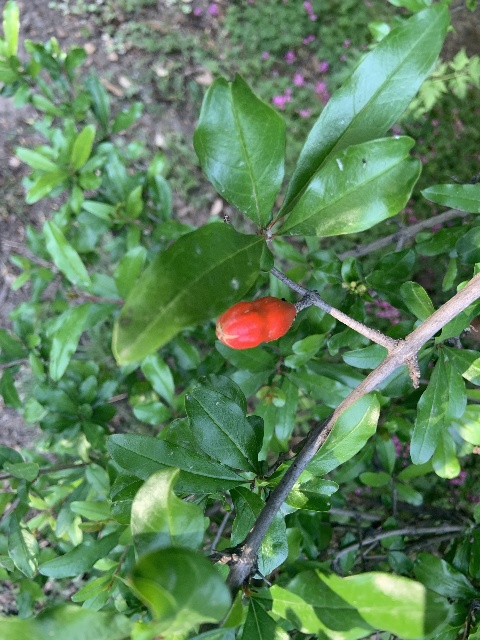bud: (215, 297, 296, 349)
